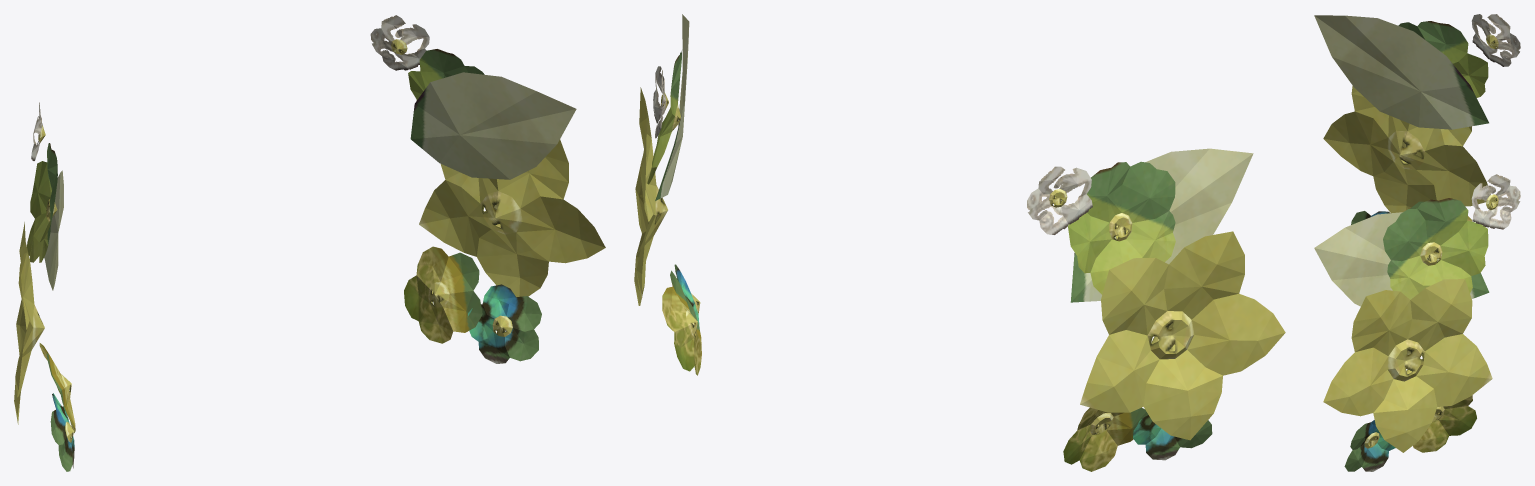
File: skinSource0BIE.obj
3 renders of one model, left to right at view 1: azimuth 30°, elevation 25°; view 2: azimuth 150°, elevation 25°; view 3: azimuth 270°, elevation 25°, orthographic. The views are drawn at different scales.
Parts seen in each view (by area): view 1: skinSource0BIE; view 2: skinSource0BIE; view 3: skinSource0BIE.
Boxes of the visible parts, left/top/right/bottom form: skinSource0BIE: left=14, top=15, right=605, bottom=471; skinSource0BIE: left=634, top=14, right=1285, bottom=471; skinSource0BIE: left=1314, top=14, right=1520, bottom=471.
Bounding box in the file's own units: 27.17 × 13.64 × 9.02.
